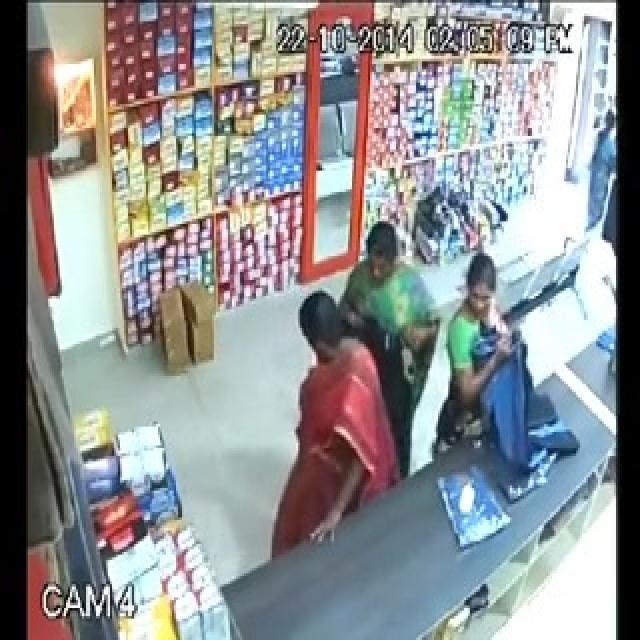normal: (434, 238, 593, 505), (258, 286, 400, 572), (340, 204, 452, 468)
